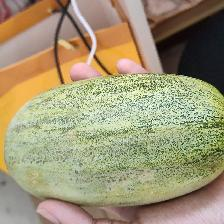gua: (15, 71, 218, 202)
